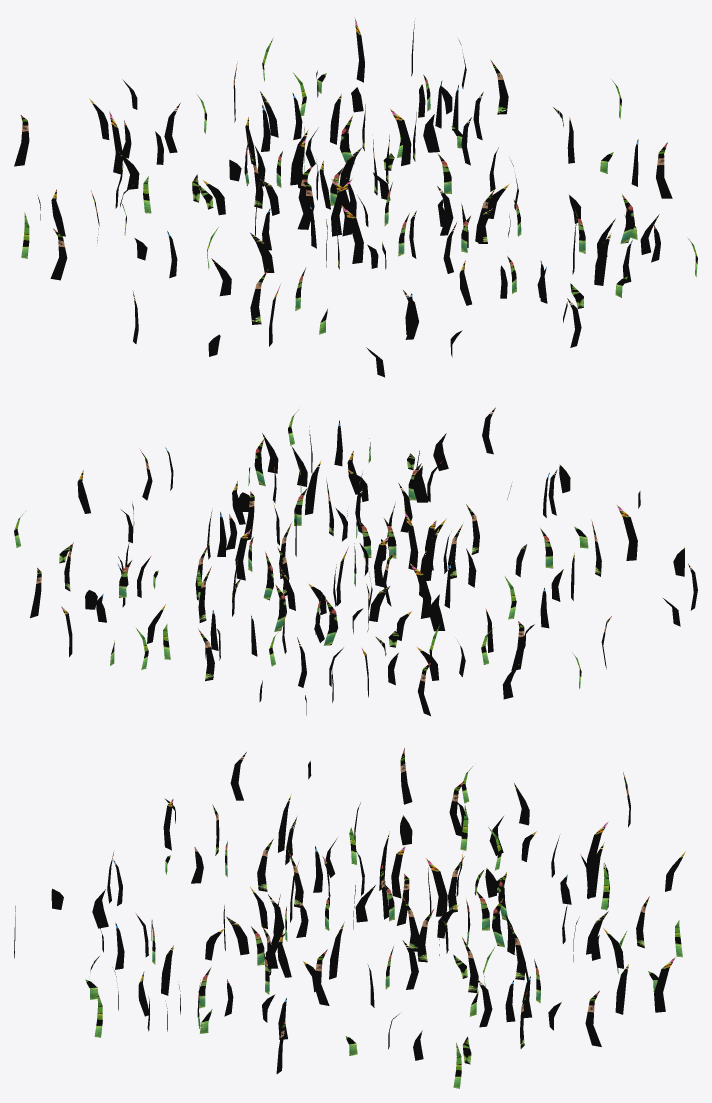
File: P_Grass3.obj
3 views of the same model, one above another, from view 1: azimuth 30°, elevation 25°; view 2: azimuth 150°, elevation 25°; view 3: azimuth 270°, elevation 25° (orthographic). The views are drawn at different scales.
Bounding box in the file's own units: 3.97 × 0.4701 × 3.82.
